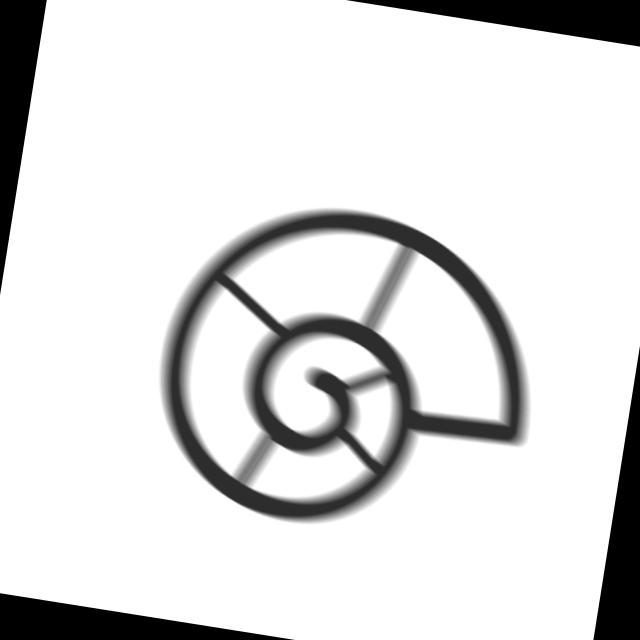fossil: (133, 178, 566, 564)
